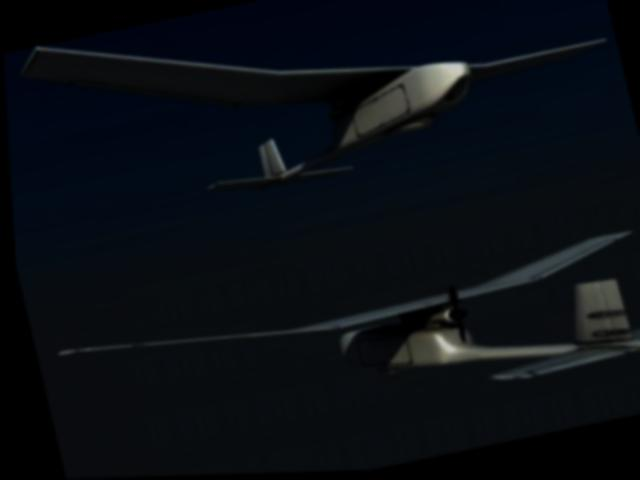uav: (33, 214, 640, 479), (0, 0, 635, 245)
